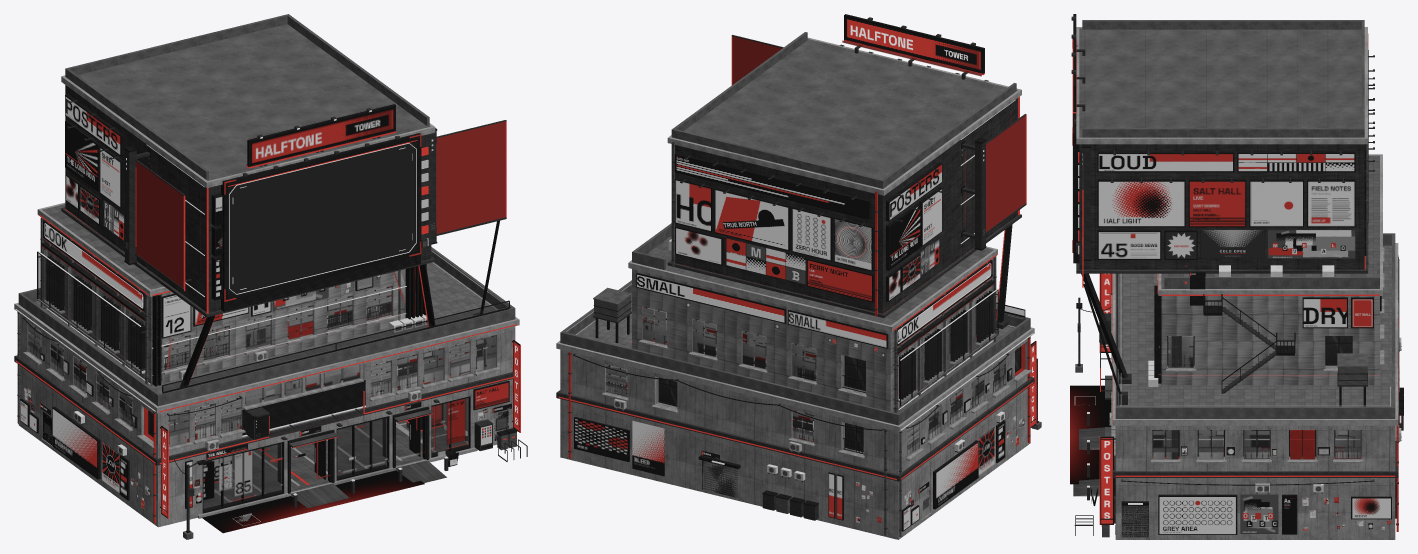
The model's file is halftone-B6S5Mkmj.glb.
The picture shows the model from 3 angles, left to right: view 1: azimuth 30°, elevation 25°; view 2: azimuth 150°, elevation 25°; view 3: azimuth 270°, elevation 25°; orthographic projection. The views are drawn at different scales.
Parts seen in each view (by area): view 1: body, farBaked, screen_hero, posters, glass, glow, add, screen_look, sign_blade_HALFTONE, sign_blade_POSTERS; view 2: body, posters, farBaked, glow, glass, sign_name, screen_look; view 3: body, posters, farBaked, glow, add, sign_blade_POSTERS, sign_blade_HALFTONE.
Part boxes in pixels (x1=…): body: x1=14, y1=14, x2=527, y2=539; farBaked: x1=26, y1=107, x2=512, y2=509; screen_hero: x1=228, y1=142, x2=416, y2=296; posters: x1=20, y1=96, x2=508, y2=508; glass: x1=38, y1=253, x2=508, y2=509; glow: x1=15, y1=110, x2=520, y2=525; add: x1=202, y1=470, x2=424, y2=533; screen_look: x1=44, y1=223, x2=143, y2=308; sign_blade_HALFTONE: x1=161, y1=426, x2=167, y2=518; sign_blade_POSTERS: x1=513, y1=340, x2=519, y2=432; body: x1=556, y1=14, x2=1041, y2=539; posters: x1=575, y1=155, x2=1024, y2=529; farBaked: x1=566, y1=17, x2=1025, y2=522; glow: x1=558, y1=36, x2=1036, y2=480; glass: x1=901, y1=291, x2=1024, y2=404; sign_name: x1=845, y1=17, x2=982, y2=71; screen_look: x1=897, y1=263, x2=991, y2=343; body: x1=1071, y1=14, x2=1403, y2=539; posters: x1=1091, y1=154, x2=1390, y2=534; farBaked: x1=1082, y1=225, x2=1390, y2=525; glow: x1=1071, y1=17, x2=1401, y2=526; add: x1=1070, y1=385, x2=1111, y2=484; sign_blade_POSTERS: x1=1100, y1=437, x2=1113, y2=524; sign_blade_HALFTONE: x1=1100, y1=273, x2=1112, y2=352.
Bounding box in the file's own units: 27.83 × 28.15 × 21.97.
7 materials, 7 textured.
